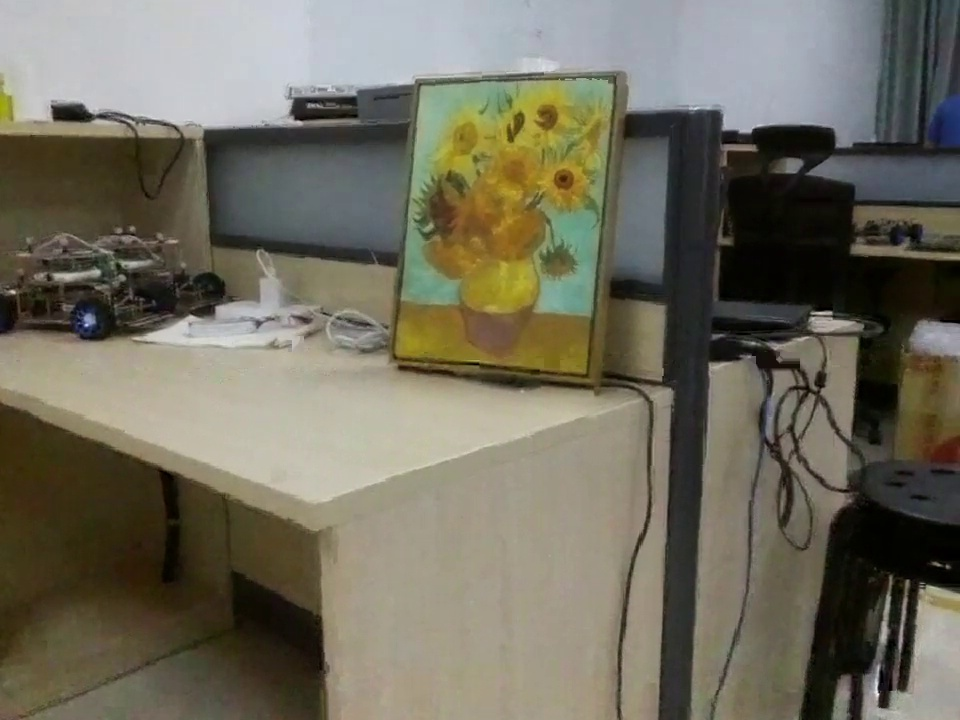painting: (392, 79, 628, 388)
